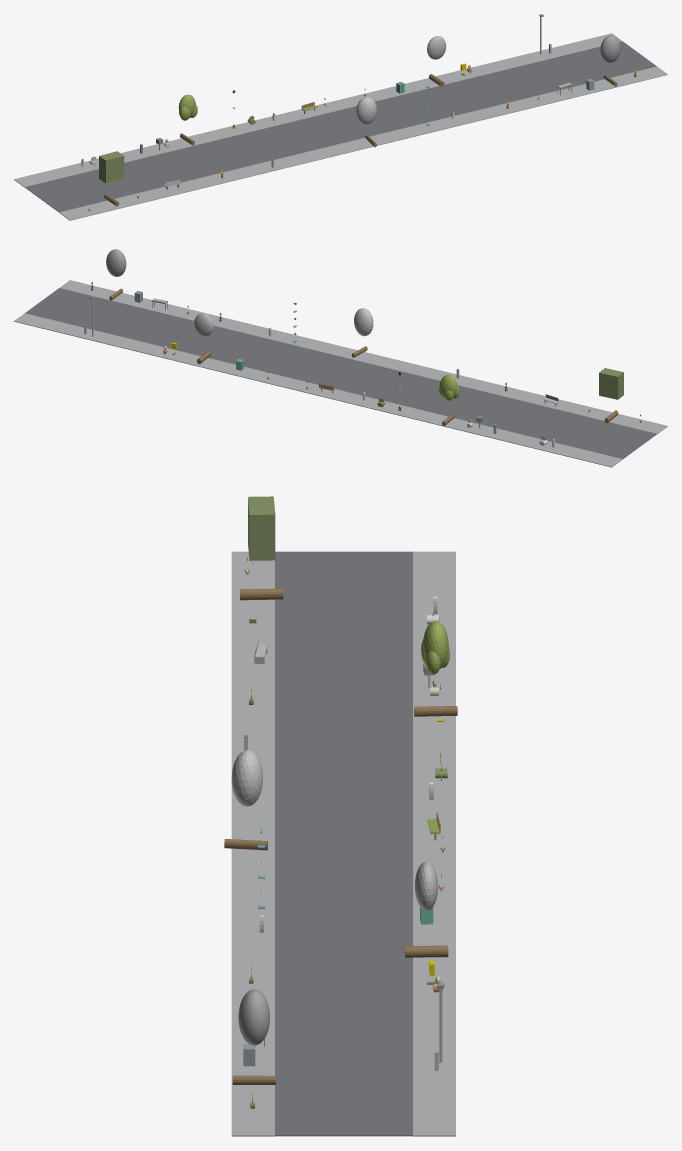
The picture shows the model from 3 angles, top to bottom: view 1: azimuth 30°, elevation 25°; view 2: azimuth 150°, elevation 25°; view 3: azimuth 270°, elevation 25°; orthographic projection. The views are drawn at different scales.
Visible parts, largest first — view 1: road_slab, sidewalk_left, sidewalk_right, inst_0012, inst_0014, inst_0016, inst_0013, inst_0015; view 2: road_slab, sidewalk_right, sidewalk_left, inst_0012, inst_0014, inst_0016, inst_0013, inst_0015; view 3: road_slab, sidewalk_right, sidewalk_left, inst_0012, inst_0014, inst_0016, inst_0013, inst_0015.
Boxes of the visible parts, x1,y1,x2,y2 form: road_slab: (24,41,656,212); sidewalk_left: (59,66,667,220); sidewalk_right: (14,33,622,187); inst_0012: (99,151,124,206); inst_0014: (356,96,376,147); inst_0016: (600,35,620,86); inst_0013: (178,94,197,145); inst_0015: (427,36,446,86); road_slab: (25,288,656,458); sidewalk_right: (14,313,622,467); sidewalk_left: (59,280,667,433); inst_0012: (599,368,623,423); inst_0014: (351,308,373,357); inst_0016: (106,249,126,300); inst_0013: (439,375,459,425); inst_0015: (194,313,213,364); road_slab: (275,551,412,1136); sidewalk_right: (413,551,455,1136); sidewalk_left: (231,551,274,1136); inst_0012: (240,496,283,600); inst_0014: (224,749,267,850); inst_0016: (232,989,275,1084); inst_0013: (414,621,457,716); inst_0015: (404,861,448,957).
Size of the model in its own units: 80 by 6.08 by 13.51.
